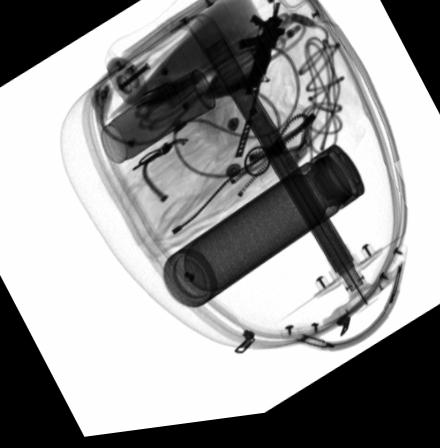Gun: (232, 8, 285, 165)
